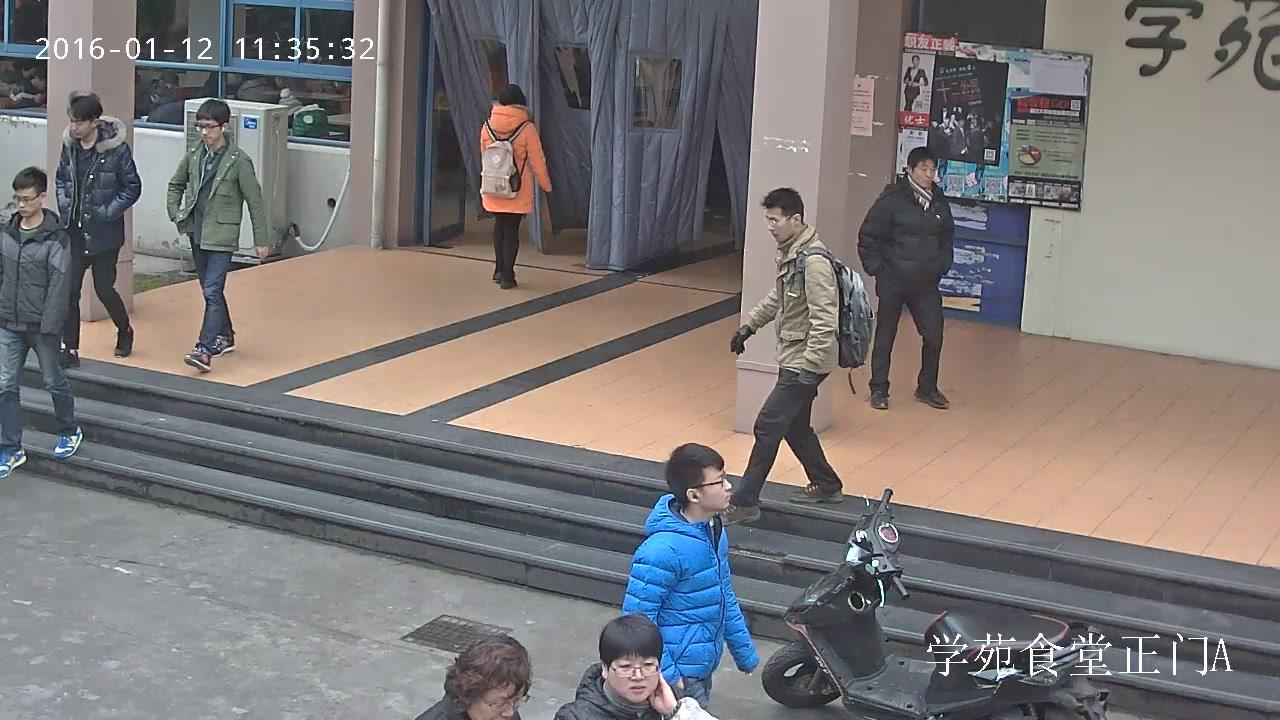person: (728, 187, 874, 524), (617, 443, 756, 708), (168, 98, 269, 372), (0, 166, 84, 480), (857, 147, 953, 409), (54, 92, 141, 358), (551, 615, 717, 719), (478, 84, 552, 288), (278, 86, 328, 136), (8, 62, 44, 110), (902, 55, 928, 112), (146, 69, 184, 108)
